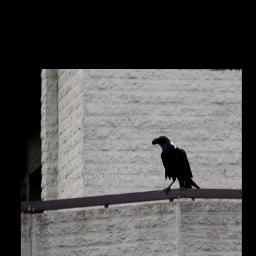Crow: (151, 134, 202, 201)
